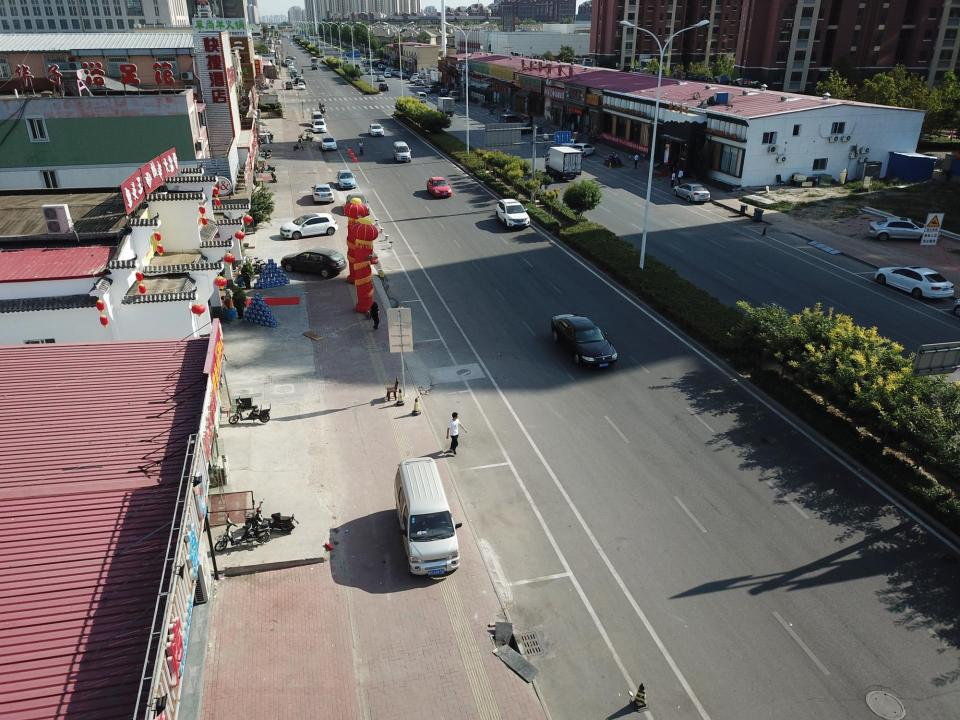bus: (311, 57, 318, 66)
car: (551, 314, 618, 368), (875, 266, 955, 298), (280, 248, 346, 276), (869, 218, 942, 241), (279, 213, 338, 240), (495, 198, 531, 227), (673, 183, 710, 201), (345, 192, 370, 214), (427, 176, 452, 196), (311, 183, 335, 201), (336, 170, 357, 188), (571, 142, 596, 156), (561, 138, 581, 150), (516, 123, 538, 133), (322, 136, 337, 150), (368, 124, 384, 136), (312, 121, 327, 131), (423, 85, 439, 93), (415, 92, 426, 103), (379, 83, 388, 91), (439, 89, 449, 96), (298, 82, 306, 90), (415, 79, 424, 86), (376, 75, 386, 81), (410, 76, 418, 83), (412, 72, 420, 78), (311, 63, 317, 70), (384, 72, 391, 78), (401, 74, 408, 80), (354, 64, 360, 70), (368, 69, 374, 75)
truck: (543, 146, 584, 180), (435, 97, 455, 116)
van: (394, 457, 462, 575), (393, 141, 412, 162), (498, 114, 524, 127), (312, 111, 324, 125), (448, 91, 460, 101), (284, 81, 292, 89), (342, 57, 348, 63)
